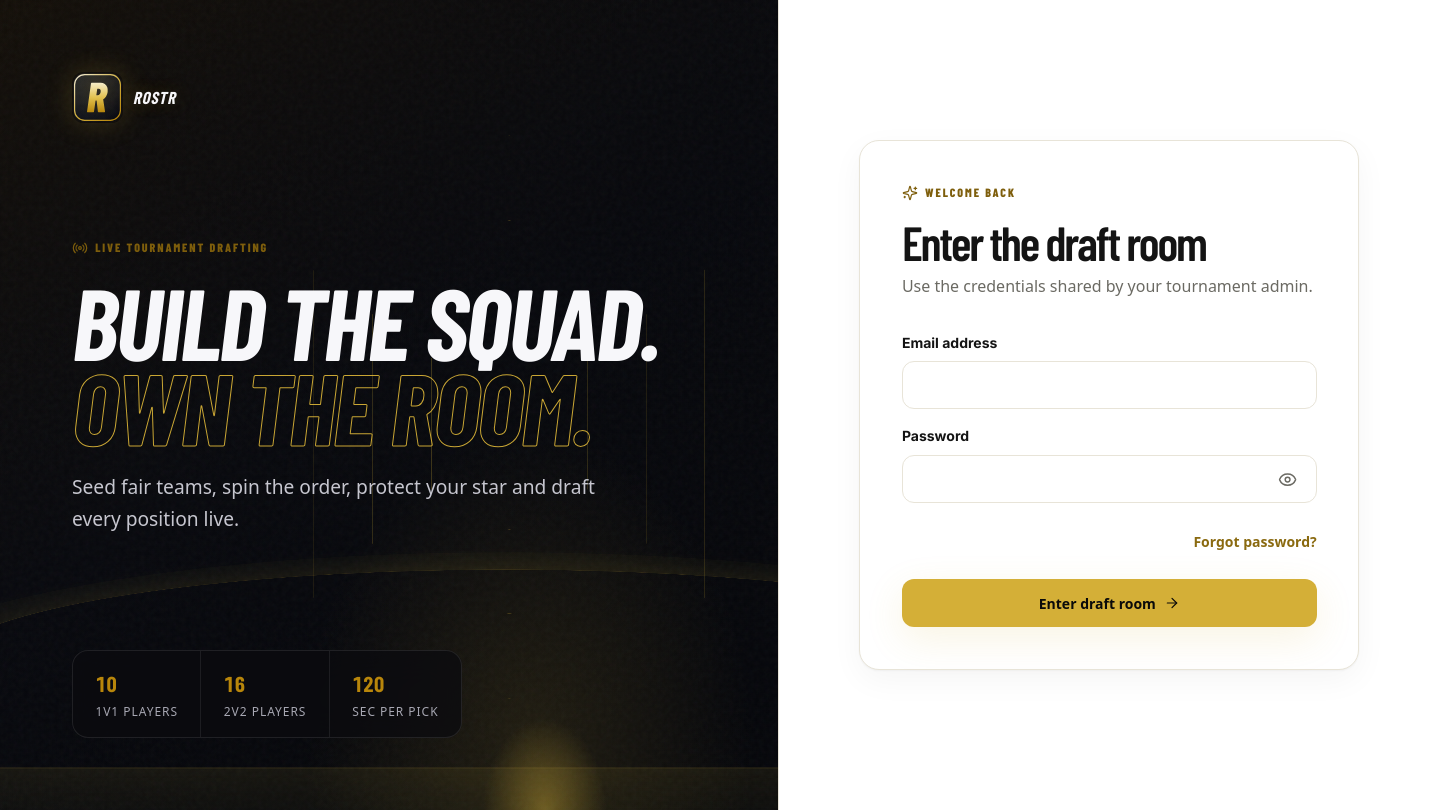
Test: LoginPage › shows an error message when the credentials are rejected
The width and height of the screenshot is (1440, 810).
In the field labelled "Email address": point(1109, 385) [902,361,1317,409], type "someone@example.com"
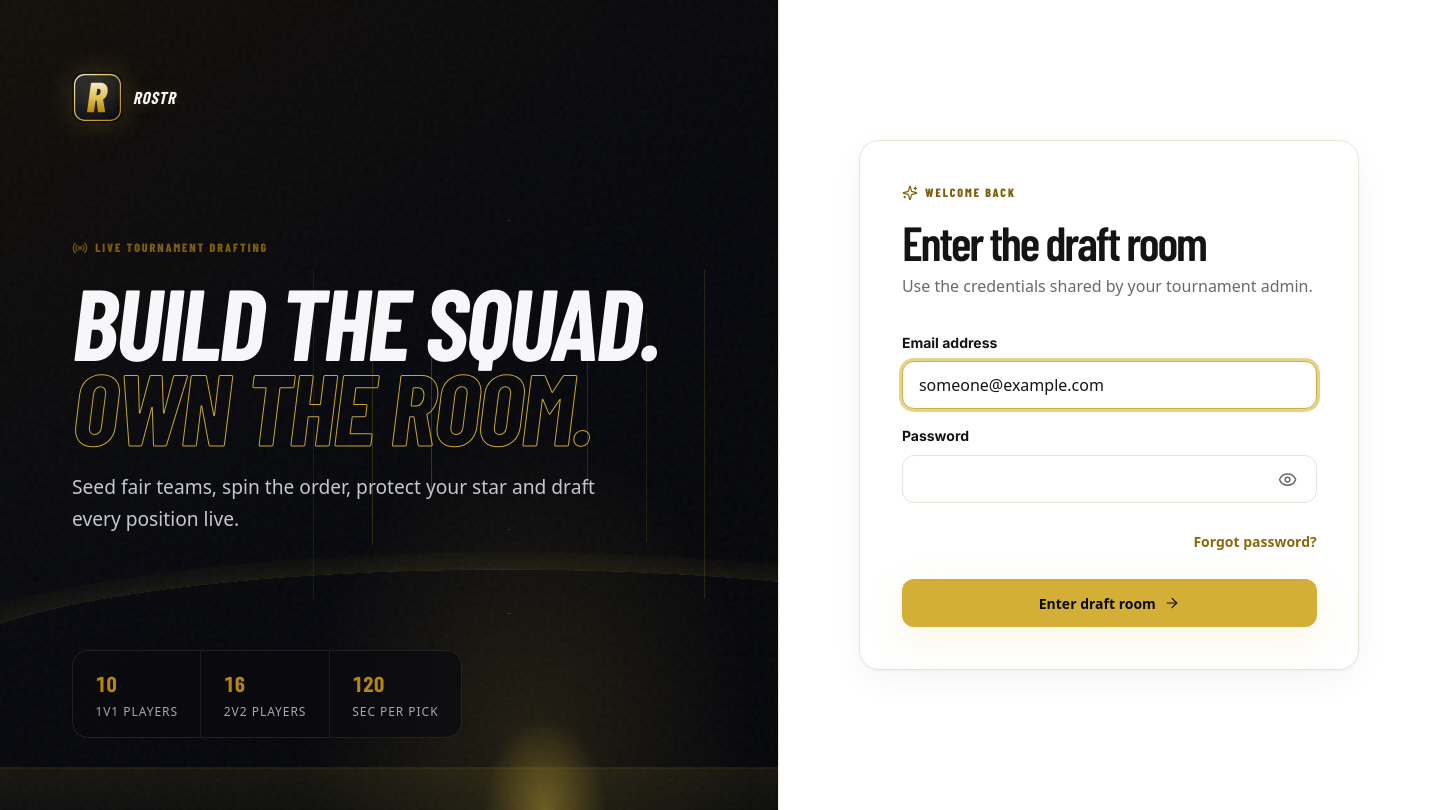
In the password field labelled "Password": point(1109, 479) [902,455,1317,503], type "WrongPass@1"
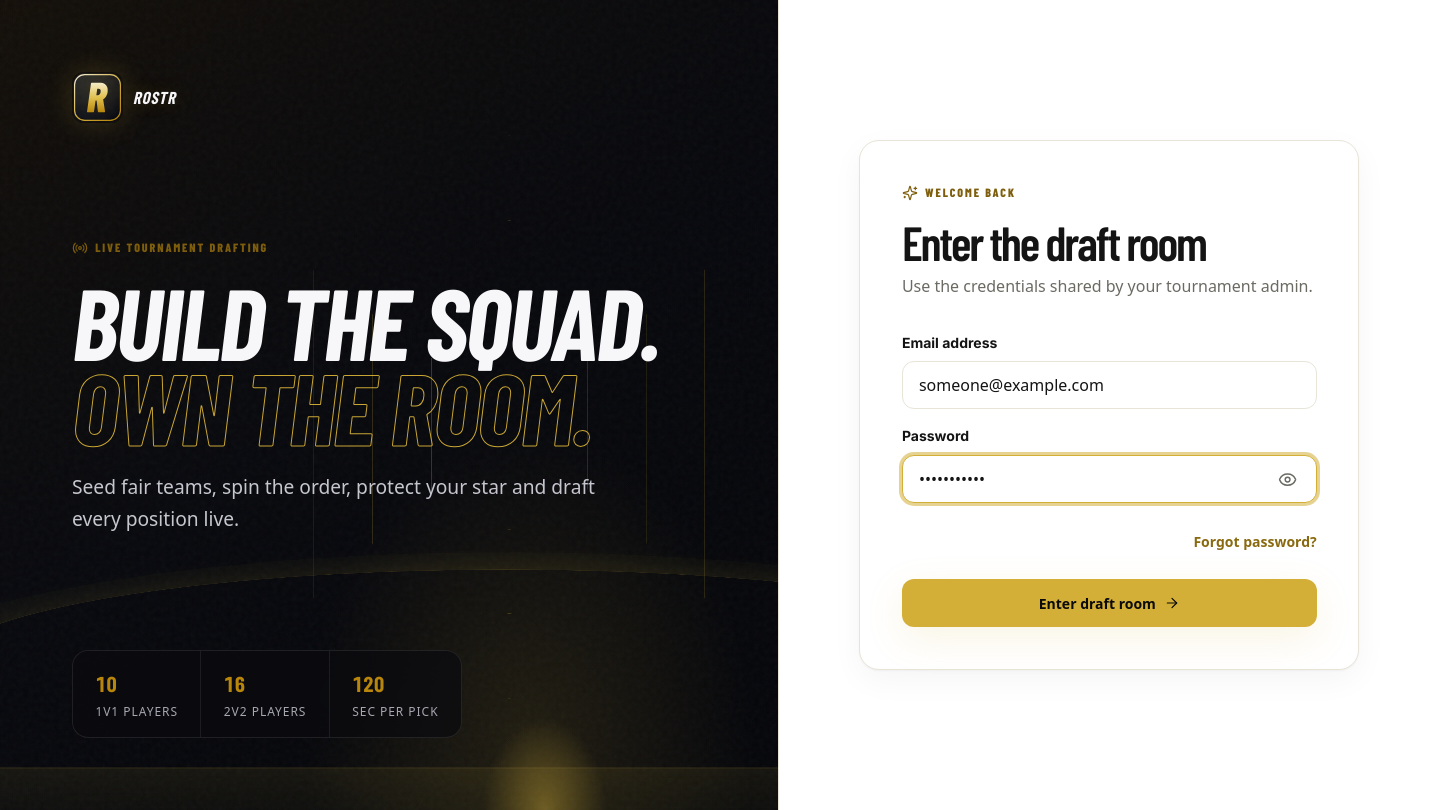
Click the button "Enter draft room": point(1109, 603) [902,579,1317,627]
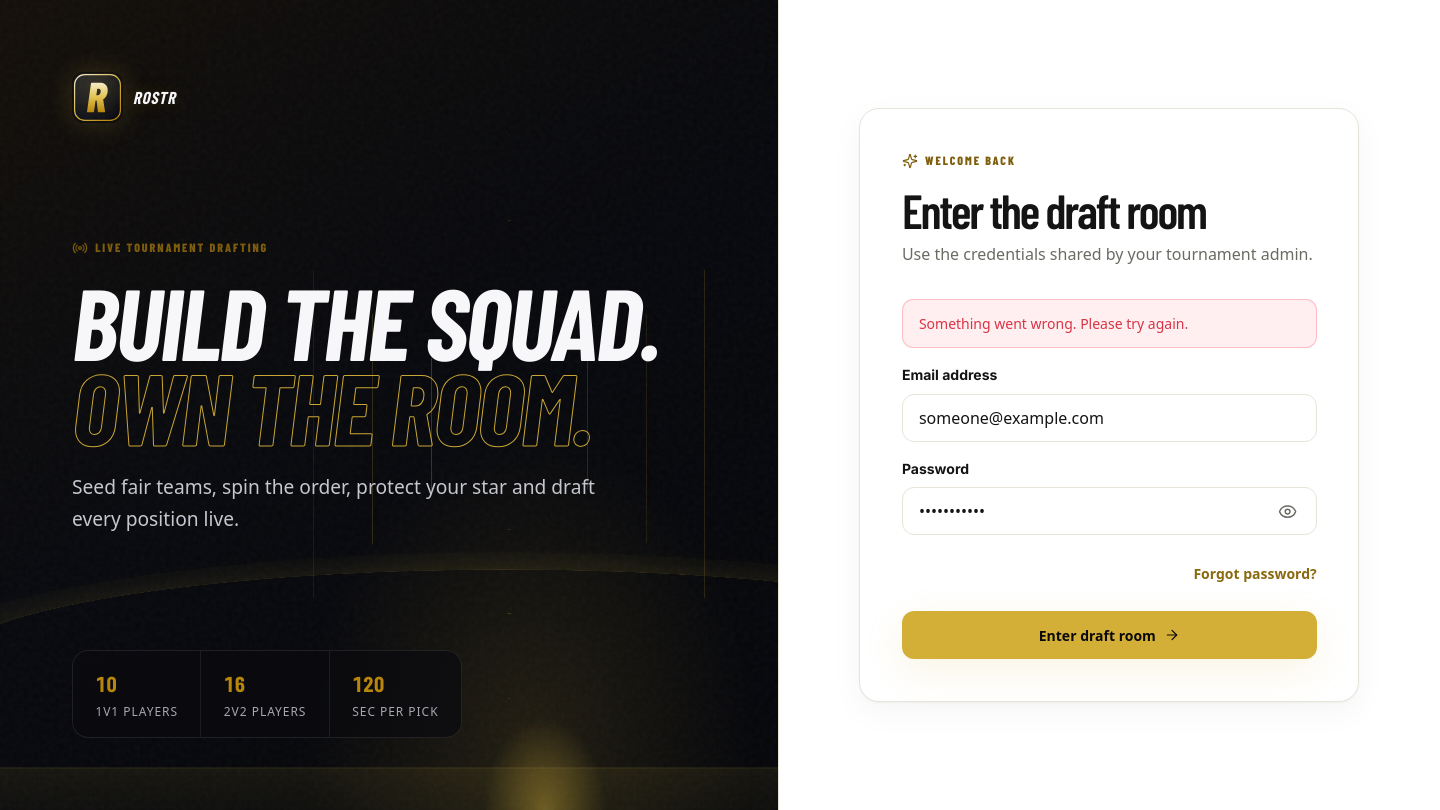
Now the message "Something went wrong. Please try again." is shown, box [902,299,1317,348]
